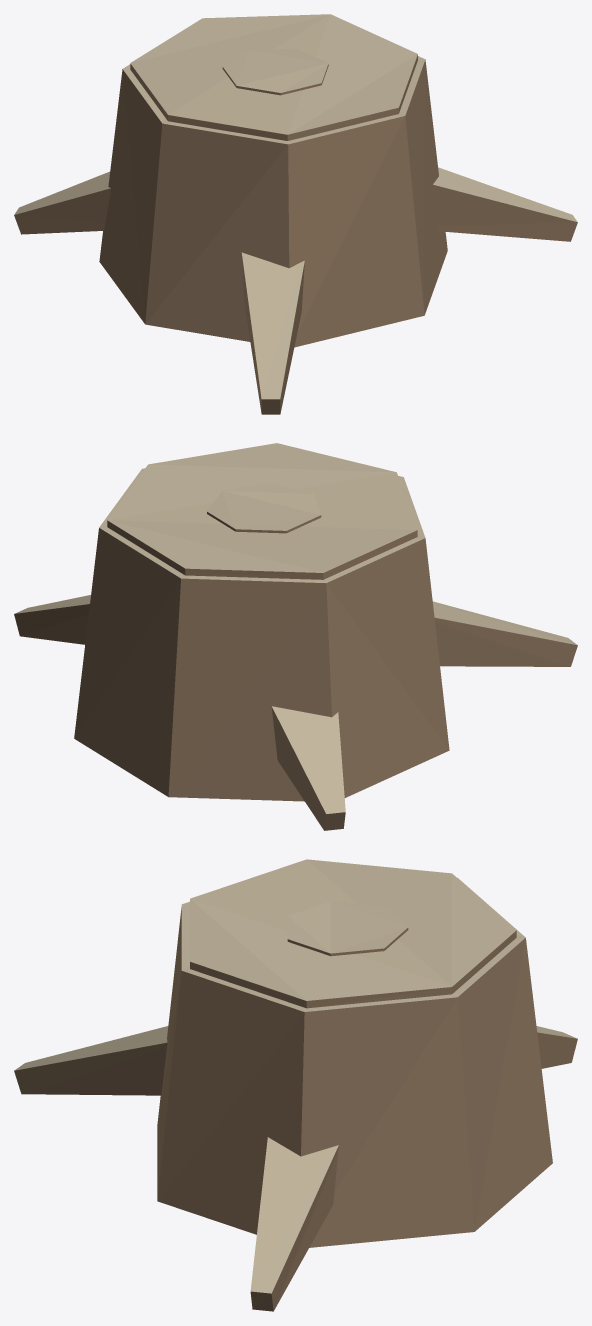
File: stump-00.glb
3 views of the same model, one above another, from view 1: azimuth 30°, elevation 25°; view 2: azimuth 150°, elevation 25°; view 3: azimuth 270°, elevation 25° (orthographic). The views are drawn at different scales.
Visible parts, largest first — view 1: stump_00; view 2: stump_00; view 3: stump_00.
Part boxes in pixels (x1=…): stump_00: x1=14, y1=14, x2=577, y2=414; stump_00: x1=14, y1=443, x2=577, y2=830; stump_00: x1=14, y1=859, x2=577, y2=1311.
Size of the model in its own units: 0.7863 by 0.3636 by 0.7633.
